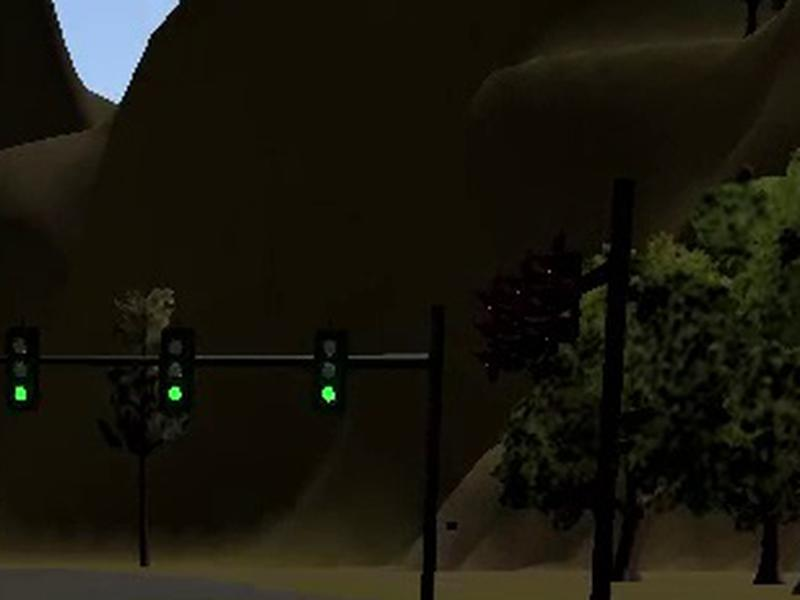Green: (7, 324, 40, 414), (312, 327, 345, 412), (160, 326, 192, 412)
